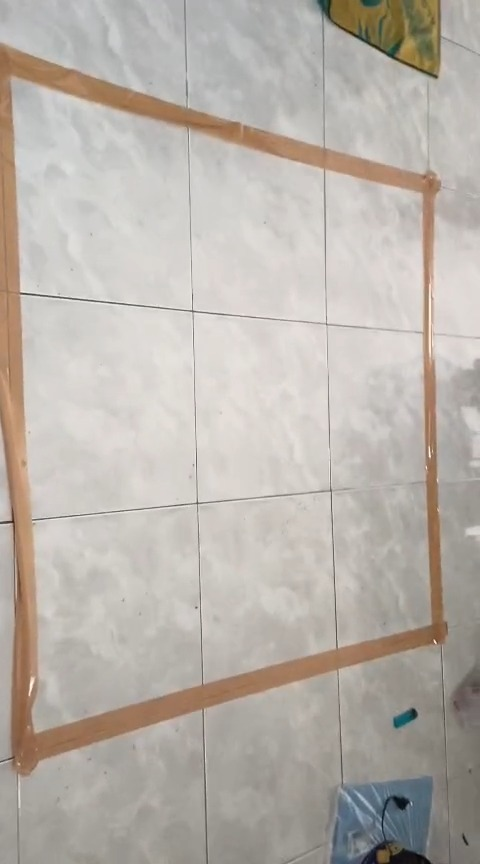floor marking: (0, 46, 446, 773)
